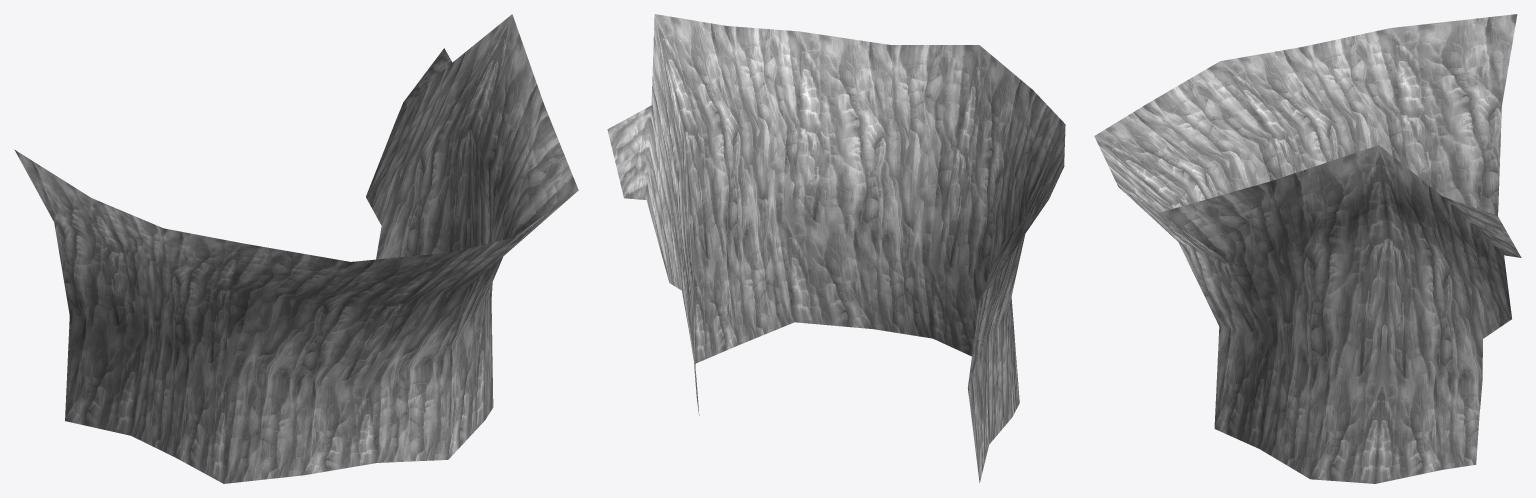
The model's file is SWORDLIGHT20_PS-AREA03_57.fbx.
3 renders of one model, left to right at view 1: azimuth 30°, elevation 25°; view 2: azimuth 150°, elevation 25°; view 3: azimuth 270°, elevation 25°, orthographic. The views are drawn at different scales.
Parts seen in each view (by area): view 1: SWORDLIGHT20_PS-AREA03_57; view 2: SWORDLIGHT20_PS-AREA03_57; view 3: SWORDLIGHT20_PS-AREA03_57.
Boxes of the visible parts, box(x1,y1,x2,y2) form: SWORDLIGHT20_PS-AREA03_57: box(14, 14, 578, 483); SWORDLIGHT20_PS-AREA03_57: box(607, 14, 1065, 482); SWORDLIGHT20_PS-AREA03_57: box(1094, 14, 1521, 483).
Bounding box in the file's own units: 200040 × 160792 × 170009.
1 material, 1 textured.
